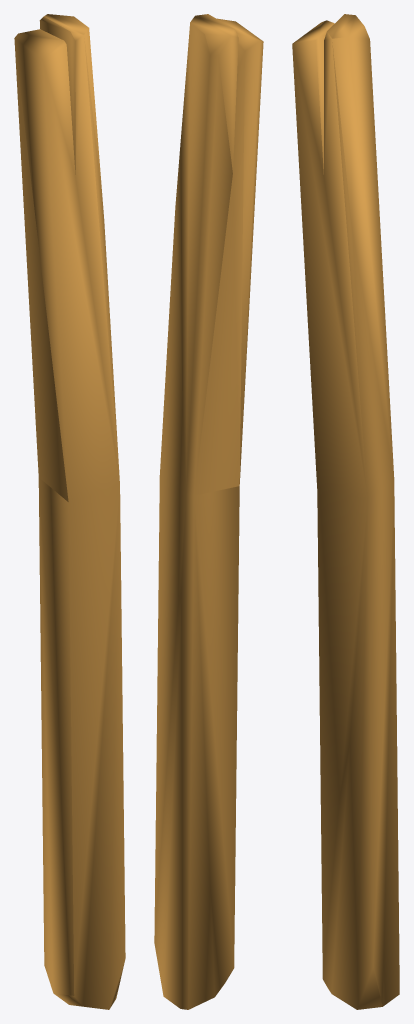
The model's file is Module_Timber_Support_LOD02.fbx.
3 views of the same model, side by side, from view 1: azimuth 30°, elevation 25°; view 2: azimuth 210°, elevation 25°; view 3: azimuth 330°, elevation 25° (orthographic).
Parts seen in each view (by area): view 1: Module_Timber_Support_LOD02_Geometry; view 2: Module_Timber_Support_LOD02_Geometry; view 3: Module_Timber_Support_LOD02_Geometry.
Boxes of the visible parts, <box> form: Module_Timber_Support_LOD02_Geometry: <box>14,14,125,1009</box>; Module_Timber_Support_LOD02_Geometry: <box>154,14,263,1009</box>; Module_Timber_Support_LOD02_Geometry: <box>292,14,399,1009</box>.
Bounding box in the file's own units: 0.4325 × 4.91 × 0.2741.
